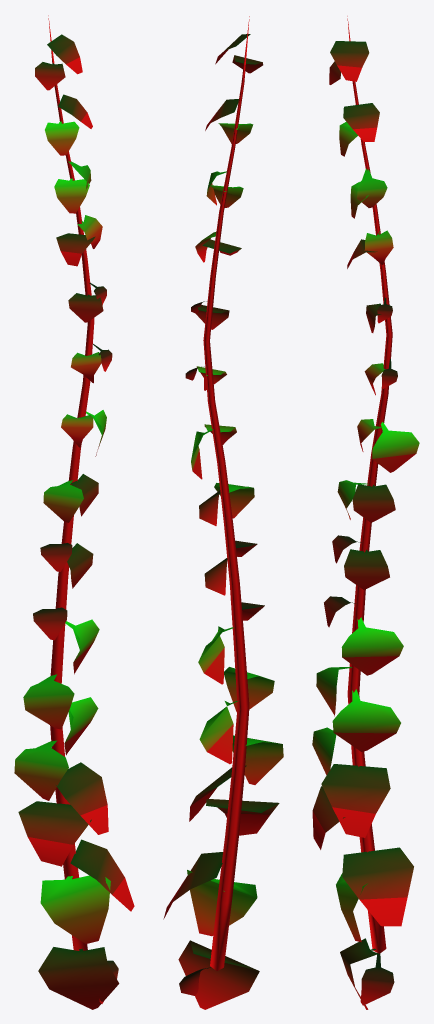
Rendered from Var10_LOD1.fbx.
The picture shows the model from 3 angles, left to right: view 1: azimuth 30°, elevation 25°; view 2: azimuth 210°, elevation 25°; view 3: azimuth 330°, elevation 25°; orthographic projection.
Visible parts, largest first — view 1: _aa27_Var10_LOD1; view 2: _aa27_Var10_LOD1; view 3: _aa27_Var10_LOD1.
Boxes of the visible parts, x1=… form: _aa27_Var10_LOD1: x1=14, y1=15, x2=134, y2=1009; _aa27_Var10_LOD1: x1=163, y1=16, x2=283, y2=1009; _aa27_Var10_LOD1: x1=312, y1=16, x2=419, y2=1009.
Size of the model in its own units: 6.89 by 62.14 by 4.72.
